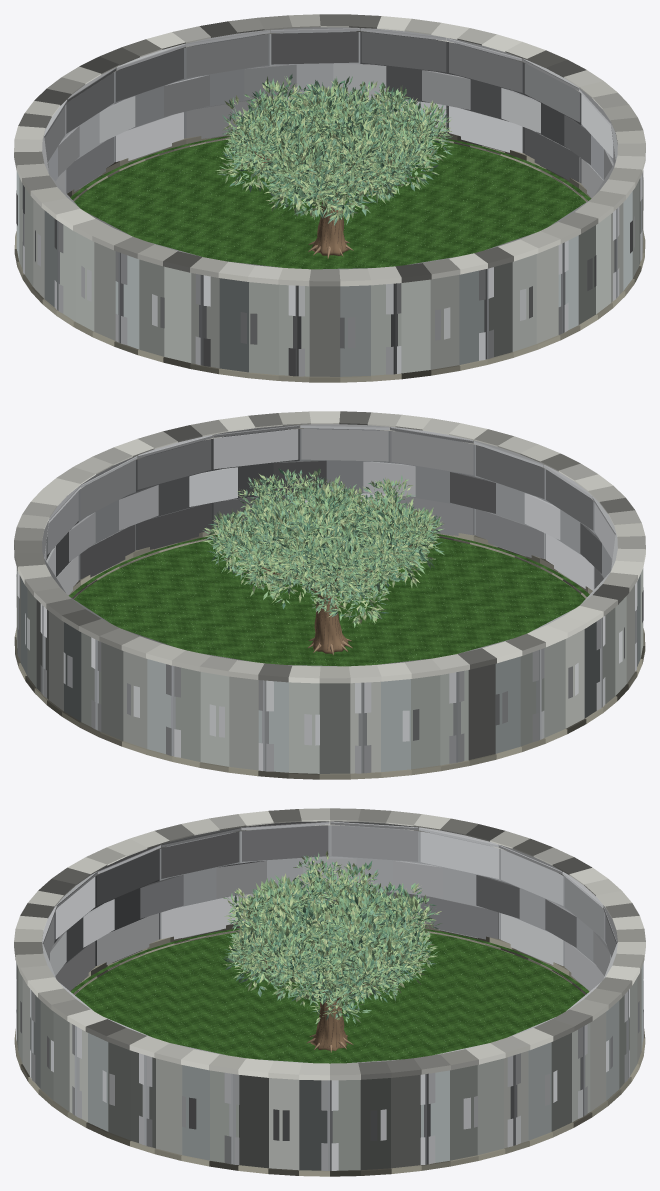
File: training-ground.glb
The picture shows the model from 3 angles, top to bottom: view 1: azimuth 30°, elevation 25°; view 2: azimuth 150°, elevation 25°; view 3: azimuth 270°, elevation 25°; orthographic projection.
Parts seen in each view (by area): view 1: RE-Justice | Complete Training Arena; view 2: RE-Justice | Complete Training Arena; view 3: RE-Justice | Complete Training Arena.
Part boxes in pixels (bbox=[...]): RE-Justice | Complete Training Arena: bbox=[14, 14, 645, 382]; RE-Justice | Complete Training Arena: bbox=[14, 411, 645, 779]; RE-Justice | Complete Training Arena: bbox=[14, 808, 645, 1176].
Size of the model in its own units: 73.84 by 19.18 by 73.84.
34 materials, 1 textured.
